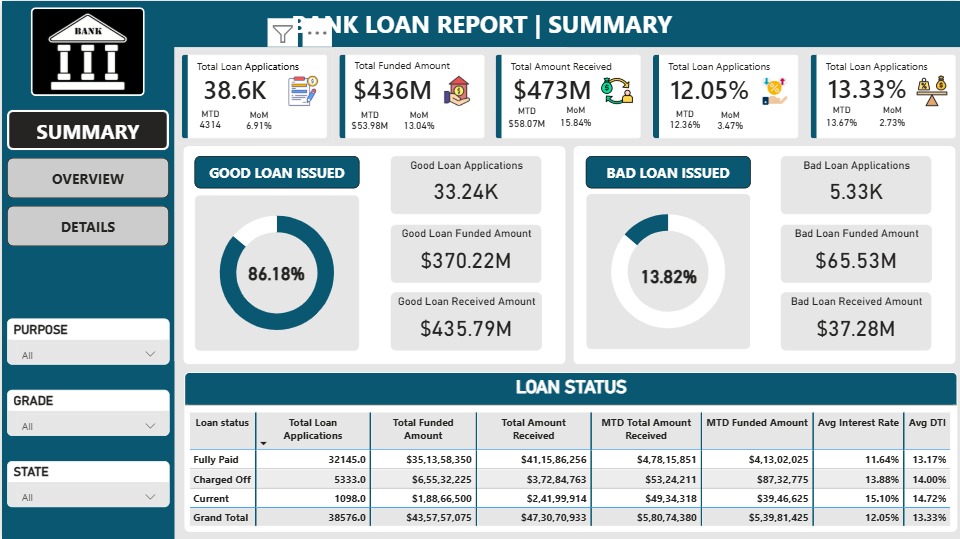

The page's visual inventory and layout, read from the dashboard file:
{"tool":"powerbi","page":{"name":"SUMMARY","canvas":[1280,720],"ordinal":0},"visuals":[{"type":"shape","box":[0,0,230,720],"z":0},{"type":"cardVisual","fields":{"Data":["financial_loan.Avg DTI"]},"box":[1070,63,210,128.8],"z":0,"group":"g4"},{"type":"cardVisual","fields":{"Data":["financial_loan.Total Loan Applications"]},"box":[231.7,63.3,210,128],"z":0,"group":"g1"},{"type":"cardVisual","fields":{"Data":["financial_loan.Total Amount Received"]},"box":[650,63.8,210,128.8],"z":0,"group":"g2"},{"type":"cardVisual","fields":{"Data":["financial_loan.Avg Interest Rate"]},"box":[860,63.8,210,128.8],"z":0,"group":"g3"},{"type":"donutChart","fields":{"Category":["financial_loan.Good VS Bad Loan"],"Y":["financial_loan.Total Loan Applications"]},"box":[778.9,257,220,207.8],"z":0,"group":"g5"},{"type":"donutChart","fields":{"Category":["financial_loan.Good VS Bad Loan"],"Y":["financial_loan.Total Loan Applications"]},"box":[256.7,257.8,220,208.6],"z":0,"group":"g6"},{"type":"textbox","box":[1093.3,72.3,169,31.9],"z":1000,"group":"g4"},{"type":"textbox","box":[255,72.6,169,31.7],"z":1000,"group":"g1"},{"type":"textbox","box":[673.3,73.1,169,31.9],"z":1000,"group":"g2"},{"type":"textbox","box":[883.3,73.1,169,31.9],"z":1000,"group":"g3"},{"type":"shape","box":[242.2,193.3,510,291.1],"z":1000},{"type":"card","fields":{"Values":["financial_loan.Bad Loan %"]},"box":[843.5,342.1,91.4,50.1],"z":1000,"group":"g5"},{"type":"card","fields":{"Values":["financial_loan.Good Loan %"]},"box":[323.4,343.2,85.7,38.6],"z":1000,"group":"g6"},{"type":"card","title":"MTD","fields":{"Values":["financial_loan.MTD DTI"]},"box":[1093.3,138.6,52.2,41.1],"z":2000,"group":"g4"},{"type":"card","title":"MTD","fields":{"Values":["financial_loan.MTD Total Amount Received"]},"box":[668.6,139.7,62.9,41.4],"z":2000,"group":"g2"},{"type":"card","title":"MTD","fields":{"Values":["financial_loan.MTD Loan Applications"]},"box":[255,143.7,45.5,35.8],"z":2000,"group":"g1"},{"type":"card","title":"MTD","fields":{"Values":["financial_loan.MTD Interest Rate"]},"box":[883.6,144,54.5,37.3],"z":2000,"group":"g3"},{"type":"shape","box":[762.2,193.3,510,291.1],"z":2000},{"type":"shape","box":[0,0,1280,61.4],"z":3000},{"type":"card","title":"MoM","fields":{"Values":["financial_loan.MOM Total Amount Received"]},"box":[737.8,138.5,53.3,42.2],"z":3000,"group":"g2"},{"type":"card","title":"MoM","fields":{"Values":["financial_loan.MOM DTI"]},"box":[1161.1,138.6,51.1,41.1],"z":3000,"group":"g4"},{"type":"card","title":"MoM","fields":{"Values":["financial_loan.MOM Loan Applications"]},"box":[319.7,144.3,45.5,35.5],"z":3000,"group":"g1"},{"type":"card","title":"MoM","fields":{"Values":["financial_loan.MOM Interest Rate"]},"box":[948,145.3,45.5,35.7],"z":3000,"group":"g3"},{"type":"cardVisual","fields":{"Data":["financial_loan.Total Funded Amount"]},"box":[441,63,210,128.8],"z":4000},{"type":"textbox","box":[361.4,2.9,555.7,55.7],"z":5000},{"type":"textbox","box":[464.3,72.3,169,31.9],"z":6000},{"type":"card","title":"MTD","fields":{"Values":["financial_loan.MTD Funded Amount"]},"box":[458.6,144.3,64.3,35.7],"z":7000},{"type":"card","title":"Good Loan Applications","fields":{"Values":["financial_loan.Good LOan Applications"]},"box":[518.8,206.2,201,77.5],"z":8000},{"type":"card","title":"MoM","fields":{"Values":["financial_loan.MOM Funded Amount"]},"box":[529.3,144.3,52.1,35.7],"z":9000},{"type":"group","id":"g1","title":"Group 1","box":[231.7,63.3,210,128],"z":10000},{"type":"group","id":"g2","title":"Group 1","box":[650,63.8,210,128.8],"z":11000},{"type":"group","id":"g3","title":"Group 1","box":[860,63.8,210,128.8],"z":12000},{"type":"group","id":"g4","title":"Group 1","box":[1070,63,210,128.8],"z":13000},{"type":"card","title":"Good Loan Funded Amount","fields":{"Values":["financial_loan.Good Loan Funded Amount"]},"box":[518.8,297.5,201,77.5],"z":14000},{"type":"card","title":"Good Loan Received Amount","fields":{"Values":["financial_loan.Good Loan Received Amount"]},"box":[518.8,387.5,201.2,77.5],"z":15000},{"type":"card","title":"Bad Loan Applications","fields":{"Values":["financial_loan.Bad Loan Applications"]},"box":[1038.8,206.2,201,77.5],"z":16000},{"type":"card","title":"Bad Loan Funded Amount","fields":{"Values":["financial_loan.Bad Loan Funded Amount"]},"box":[1038.8,297.5,201.2,77.5],"z":17000},{"type":"card","title":"Bad Loan Received Amount","fields":{"Values":["financial_loan.Bad Loan Received Amount"]},"box":[1038.8,387.5,201,77.5],"z":18000},{"type":"group","id":"g5","title":"Group 2","box":[778.9,257,220,207],"z":19000},{"type":"textbox","box":[256.7,206.7,220,43.3],"z":20000},{"type":"group","id":"g6","title":"Group 3","box":[256.7,257.8,220,207.8],"z":21000},{"type":"textbox","box":[778.9,206,220,43.3],"z":22000},{"type":"tableEx","title":"LOAN STATUS ","fields":{"Values":["financial_loan.loan_status","financial_loan.Total Loan Applications","financial_loan.Total Funded Amount","financial_loan.Total Amount Received","financial_loan.MTD Total Amount Received","financial_loan.MTD Funded Amount","financial_loan.Avg Interest Rate","financial_loan.Avg DTI"]},"box":[242.9,495.7,1030,212.9],"z":23000},{"type":"slicer","title":"STATE","fields":{"Values":["financial_loan.address_state"]},"box":[7.1,612.9,217.1,61.4],"z":24000},{"type":"slicer","title":"GRADE","fields":{"Values":["financial_loan.grade"]},"box":[7.1,517.9,217.1,61.4],"z":25000},{"type":"slicer","title":"PURPOSE","fields":{"Values":["financial_loan.purpose"]},"box":[7.1,422.9,217.1,61.4],"z":26000},{"type":"pageNavigator","box":[6.7,145,216.7,183.3],"z":27000},{"type":"image","box":[38.3,8.3,151.7,118.3],"z":27001}]}

Visuals, with their boxes in screenshot pixels (x1, y1, x2, y2), scaled from the page's 1280x720 canvas onto the 960x539 screenshot:
shape: (x1=0, y1=0, x2=172, y2=538)
cardVisual - financial_loan.Avg DTI: (x1=802, y1=47, x2=959, y2=144)
cardVisual - financial_loan.Total Loan Applications: (x1=174, y1=47, x2=331, y2=143)
cardVisual - financial_loan.Total Amount Received: (x1=488, y1=48, x2=645, y2=144)
cardVisual - financial_loan.Avg Interest Rate: (x1=645, y1=48, x2=802, y2=144)
donutChart - financial_loan.Good VS Bad Loan x financial_loan.Total Loan Applications: (x1=584, y1=192, x2=749, y2=348)
donutChart - financial_loan.Good VS Bad Loan x financial_loan.Total Loan Applications: (x1=193, y1=193, x2=358, y2=349)
textbox: (x1=820, y1=54, x2=947, y2=78)
textbox: (x1=191, y1=54, x2=318, y2=78)
textbox: (x1=505, y1=55, x2=632, y2=79)
textbox: (x1=662, y1=55, x2=789, y2=79)
shape: (x1=182, y1=145, x2=564, y2=363)
card - financial_loan.Bad Loan %: (x1=633, y1=256, x2=701, y2=294)
card - financial_loan.Good Loan %: (x1=243, y1=257, x2=307, y2=286)
"MTD" card: (x1=820, y1=104, x2=859, y2=135)
"MTD" card: (x1=501, y1=105, x2=549, y2=136)
"MTD" card: (x1=191, y1=108, x2=225, y2=134)
"MTD" card: (x1=663, y1=108, x2=704, y2=136)
shape: (x1=572, y1=145, x2=954, y2=363)
shape: (x1=0, y1=0, x2=959, y2=46)
"MoM" card: (x1=553, y1=104, x2=593, y2=135)
"MoM" card: (x1=871, y1=104, x2=909, y2=135)
"MoM" card: (x1=240, y1=108, x2=274, y2=135)
"MoM" card: (x1=711, y1=109, x2=745, y2=135)
cardVisual - financial_loan.Total Funded Amount: (x1=331, y1=47, x2=488, y2=144)
textbox: (x1=271, y1=2, x2=688, y2=44)
textbox: (x1=348, y1=54, x2=475, y2=78)
"MTD" card: (x1=344, y1=108, x2=392, y2=135)
"Good Loan Applications" card: (x1=389, y1=154, x2=540, y2=212)
"MoM" card: (x1=397, y1=108, x2=436, y2=135)
"Group 1" group: (x1=174, y1=47, x2=331, y2=143)
"Group 1" group: (x1=488, y1=48, x2=645, y2=144)
"Group 1" group: (x1=645, y1=48, x2=802, y2=144)
"Group 1" group: (x1=802, y1=47, x2=959, y2=144)
"Good Loan Funded Amount" card: (x1=389, y1=223, x2=540, y2=281)
"Good Loan Received Amount" card: (x1=389, y1=290, x2=540, y2=348)
"Bad Loan Applications" card: (x1=779, y1=154, x2=930, y2=212)
"Bad Loan Funded Amount" card: (x1=779, y1=223, x2=930, y2=281)
"Bad Loan Received Amount" card: (x1=779, y1=290, x2=930, y2=348)
"Group 2" group: (x1=584, y1=192, x2=749, y2=347)
textbox: (x1=193, y1=155, x2=358, y2=187)
"Group 3" group: (x1=193, y1=193, x2=358, y2=349)
textbox: (x1=584, y1=154, x2=749, y2=187)
"LOAN STATUS " tableEx: (x1=182, y1=371, x2=955, y2=530)
"STATE" slicer: (x1=5, y1=459, x2=168, y2=505)
"GRADE" slicer: (x1=5, y1=388, x2=168, y2=434)
"PURPOSE" slicer: (x1=5, y1=317, x2=168, y2=363)
pageNavigator: (x1=5, y1=109, x2=168, y2=246)
image: (x1=29, y1=6, x2=142, y2=95)
